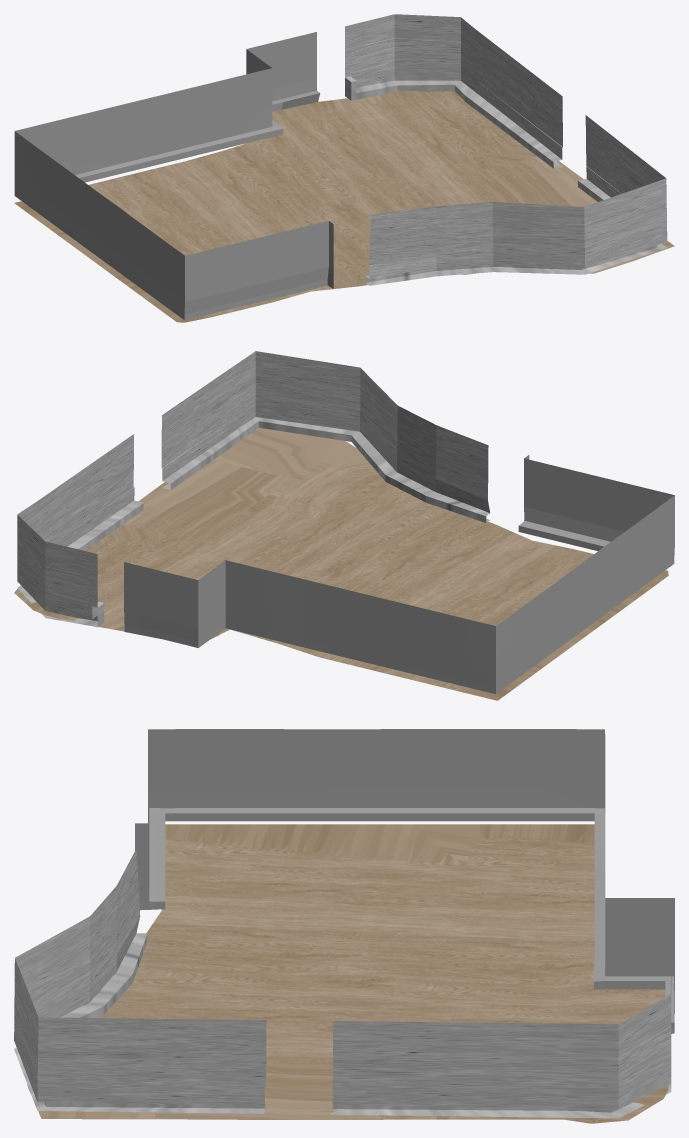
The model's file is sveitane 1.fbx.
3 views of the same model, one above another, from view 1: azimuth 30°, elevation 25°; view 2: azimuth 150°, elevation 25°; view 3: azimuth 270°, elevation 25° (orthographic). The views are drawn at different scales.
Parts seen in each view (by area): view 1: namas:a_site; view 2: namas:a_site; view 3: namas:a_site.
Part boxes in pixels (x1,y1,x2,y2): namas:a_site: (14,14,674,322); namas:a_site: (14,351,674,700); namas:a_site: (14,729,674,1123).
Size of the model in its own units: 2677 by 410 by 2506.
3 materials, 2 textured.
